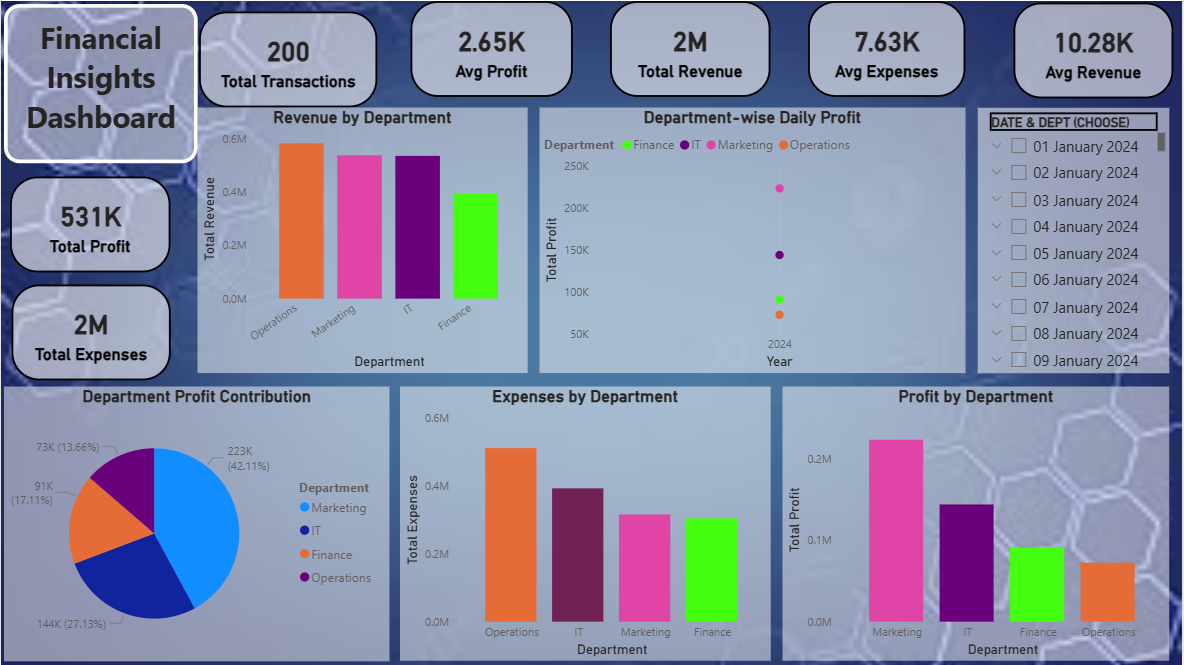

The dashboard page shown, as its layout file describes it:
{"tool":"powerbi","page":{"name":"DASHBOARD","canvas":[1280,720],"ordinal":2},"visuals":[{"type":"card","fields":{"Values":["financial_analysis_dataset.Avg Expenses"]},"box":[875.1,0,170.8,104.1],"z":0},{"type":"card","fields":{"Values":["financial_analysis_dataset.Avg Profit"]},"box":[444,0,175.7,104.1],"z":1000},{"type":"card","fields":{"Values":["financial_analysis_dataset.Avg Revenue"]},"box":[1098.2,1.6,173.1,103.9],"z":2000},{"type":"card","fields":{"Values":["financial_analysis_dataset.Total Expenses"]},"box":[11.4,307.4,172.4,104.1],"z":3000},{"type":"card","fields":{"Values":["financial_analysis_dataset.Total Profit"]},"box":[9.8,190.3,174,104.1],"z":4000},{"type":"card","fields":{"Values":["financial_analysis_dataset.Total Revenue"]},"box":[660.4,0,174,104.1],"z":5000},{"type":"card","fields":{"Values":["financial_analysis_dataset.Total Transactions"]},"box":[214.7,11.4,193.6,104.1],"z":6000},{"type":"clusteredColumnChart","title":"Revenue by Department","fields":{"Category":["financial_analysis_dataset.Department"],"Y":["financial_analysis_dataset.Total Revenue"]},"box":[213.1,115.5,357.8,287.9],"z":7000},{"type":"clusteredColumnChart","title":"Profit by Department","fields":{"Y":["financial_analysis_dataset.Total Profit"],"Category":["financial_analysis_dataset.Department"]},"box":[847.4,418,419.6,297.7],"z":8000},{"type":"clusteredColumnChart","title":"Expenses by Department","fields":{"Category":["financial_analysis_dataset.Department"],"Y":["financial_analysis_dataset.Total Expenses"]},"box":[432.7,418,401.8,297.7],"z":9000},{"type":"pieChart","title":"Department Profit Contribution","fields":{"Category":["financial_analysis_dataset.Department"],"Y":["financial_analysis_dataset.Total Profit"]},"box":[4,418,418,298],"z":10000},{"type":"lineChart","title":"Department-wise Daily Profit","fields":{"Category":["financial_analysis_dataset.Date.Variation.Date Hierarchy.Year","financial_analysis_dataset.Date.Variation.Date Hierarchy.Quarter","financial_analysis_dataset.Date.Variation.Date Hierarchy.Month","financial_analysis_dataset.Date.Variation.Date Hierarchy.Day"],"Series":["financial_analysis_dataset.Department"],"Y":["financial_analysis_dataset.Total Profit"]},"box":[583.9,115.5,461.9,287.9],"z":11000},{"type":"slicer","fields":{"Values":["financial_analysis_dataset.Date","financial_analysis_dataset.Department"]},"box":[1058.9,115.5,208.2,287.9],"z":12000},{"type":"textbox","box":[3.3,3.3,209.8,172.4],"z":12001}]}

Visuals, with their boxes in screenshot pixels (x1, y1, x2, y2), scaled from the page's 1280x720 canvas onto the 1184x665 screenshot:
card - financial_analysis_dataset.Avg Expenses: [809,0,967,96]
card - financial_analysis_dataset.Avg Profit: [411,0,573,96]
card - financial_analysis_dataset.Avg Revenue: [1016,1,1176,97]
card - financial_analysis_dataset.Total Expenses: [11,284,170,380]
card - financial_analysis_dataset.Total Profit: [9,176,170,272]
card - financial_analysis_dataset.Total Revenue: [611,0,772,96]
card - financial_analysis_dataset.Total Transactions: [199,11,378,107]
"Revenue by Department" clusteredColumnChart: [197,107,528,373]
"Profit by Department" clusteredColumnChart: [784,386,1172,661]
"Expenses by Department" clusteredColumnChart: [400,386,772,661]
"Department Profit Contribution" pieChart: [4,386,390,661]
"Department-wise Daily Profit" lineChart: [540,107,967,373]
slicer - financial_analysis_dataset.Date x financial_analysis_dataset.Department: [979,107,1172,373]
textbox: [3,3,197,162]
